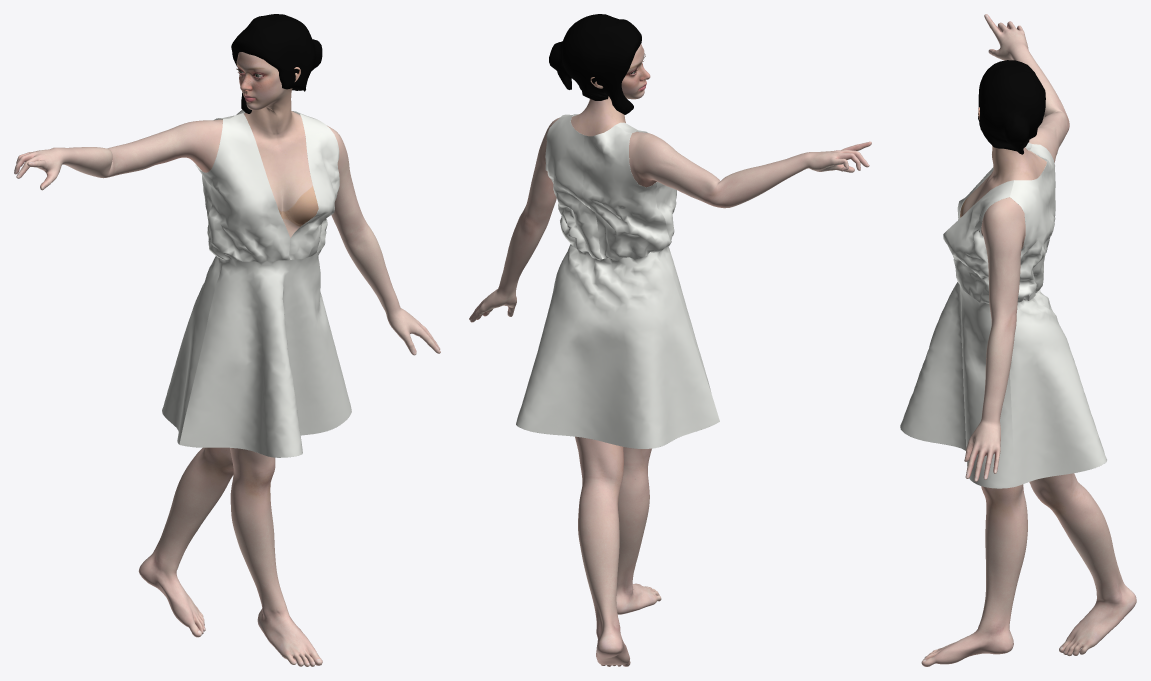
The model's file is Dynamic.obj.
3 renders of one model, left to right at view 1: azimuth 30°, elevation 25°; view 2: azimuth 150°, elevation 25°; view 3: azimuth 270°, elevation 25°, orthographic. The views are drawn at different scales.
Size of the model in its own units: 1226 by 1775 by 625.
